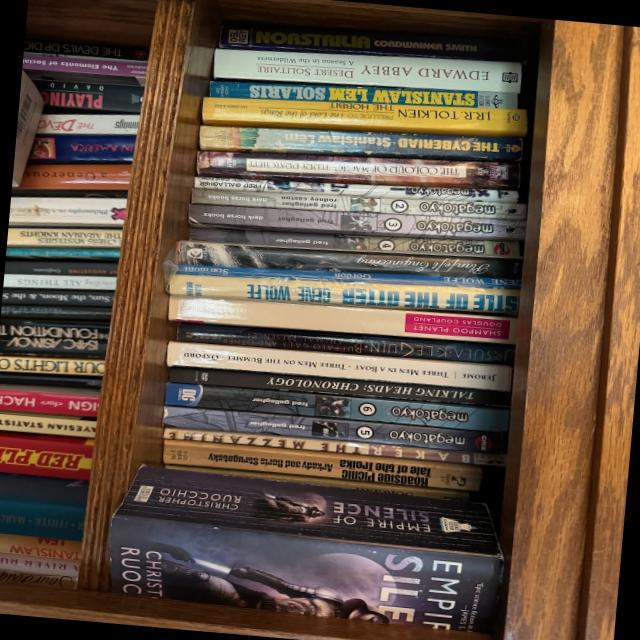book: (103, 464, 507, 637), (164, 340, 510, 392), (167, 293, 516, 344), (164, 382, 508, 433), (162, 403, 503, 454), (160, 437, 481, 491), (168, 271, 518, 315), (175, 239, 521, 283), (166, 365, 509, 409), (175, 322, 514, 365), (187, 202, 524, 244), (162, 425, 504, 466), (212, 48, 521, 93), (195, 149, 519, 191), (201, 97, 526, 138), (218, 23, 525, 65), (188, 224, 519, 260), (199, 125, 521, 162), (190, 186, 526, 221), (193, 175, 517, 204), (208, 80, 517, 110), (176, 264, 519, 290)
